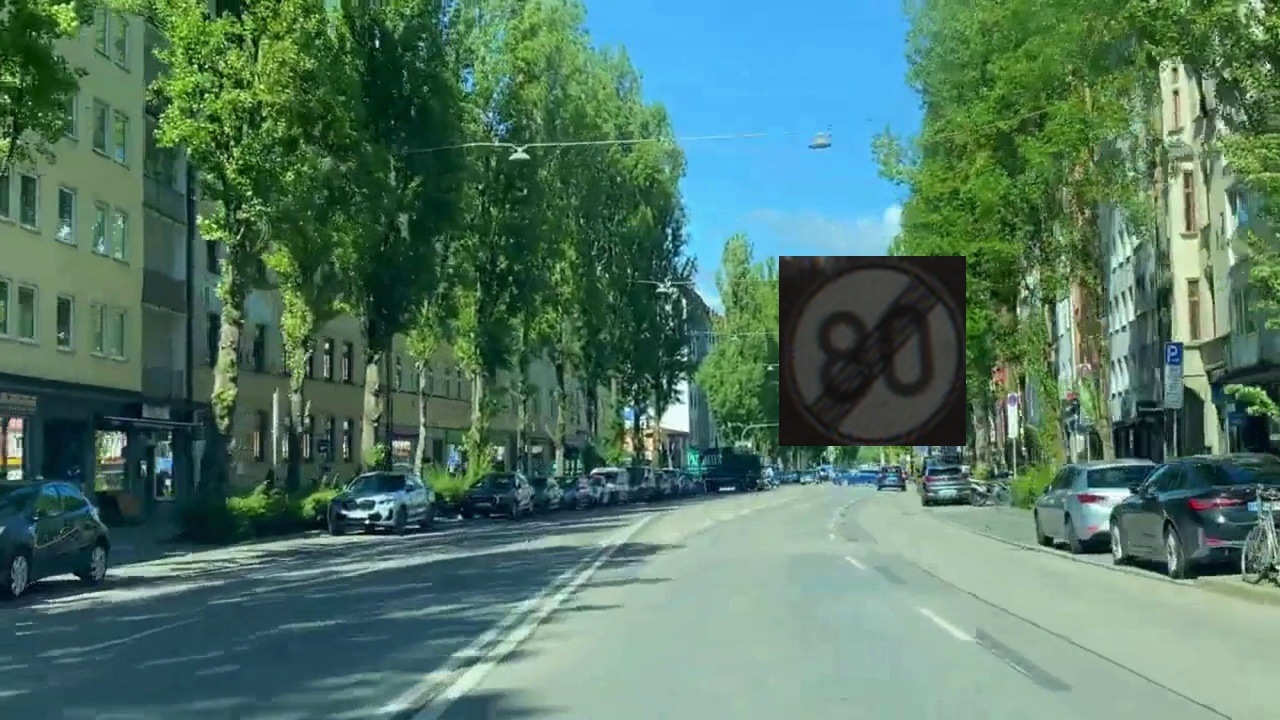End Speed 80: (779, 256, 966, 446)
